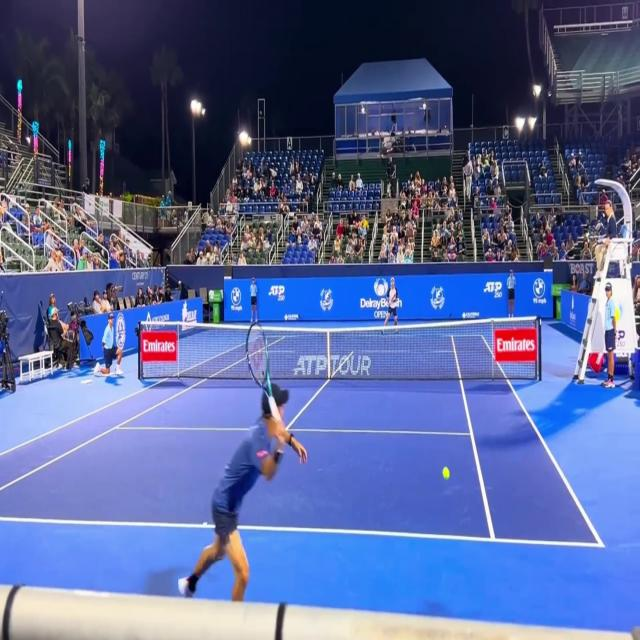tennisBall: (439, 463, 453, 490)
